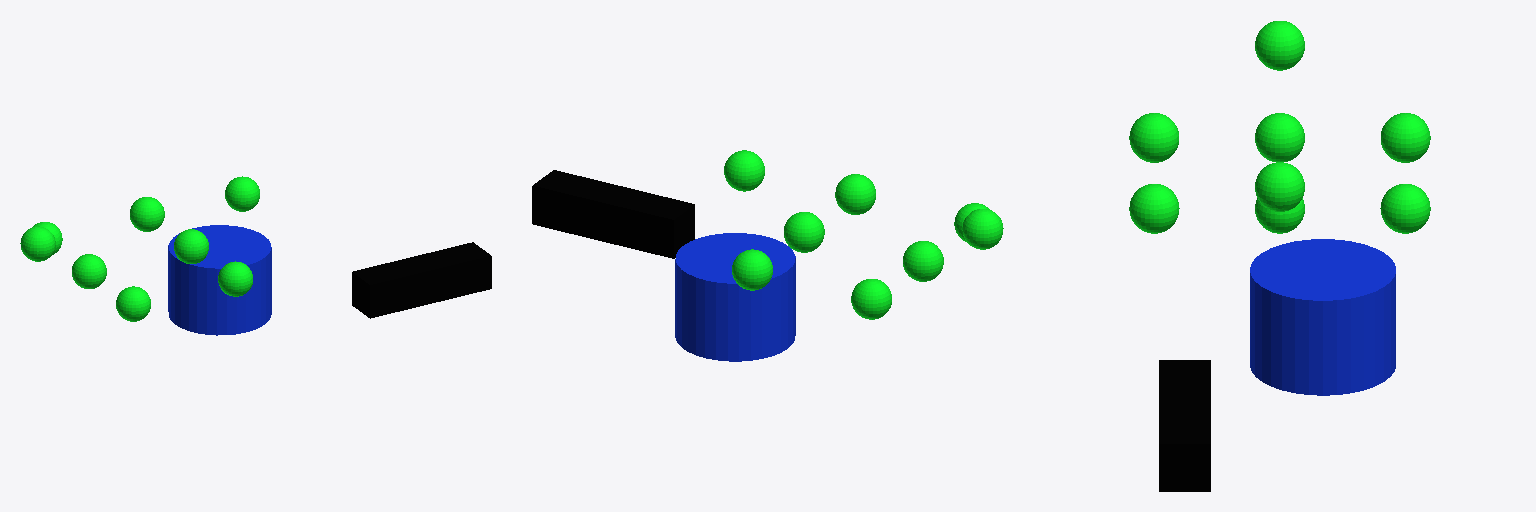
The robot description file, URDF, robot "myagv_assembly":
<?xml version="1.0"?>
<robot name="myagv_assembly">
  <!--
    Robot description for the new full assembly STL.

    Frame convention:
      base_footprint: planar navigation frame on the floor projection.
      base_link:      physical robot body frame used for sensors and mocap.
      odom:           NOT defined here. It is a dynamic runtime/world frame.

    The new assembly mesh is a visual reference only. Sensor and mocap
    transforms below should be updated from physical measurements.

    Current CAD measurements, from the Fusion/STL coordinate frame in mm:
      base_link:   [-299.832,  24.717,   33.859]
      camera_link: [-254.500, 142.000, -160.000]
      laser_frame: [-320.430, 118.347,  -40.346]

    Fusion/STL axes are mapped into ROS as:
      ROS X forward = -Fusion Z
      ROS Y left    = -Fusion X
      ROS Z up      =  Fusion Y
  -->

  <material name="assembly_grey">
    <color rgba="0.72 0.72 0.72 1.0"/>
  </material>
  <material name="camera_black">
    <color rgba="0.02 0.02 0.02 1.0"/>
  </material>
  <material name="lidar_blue">
    <color rgba="0.1 0.25 0.9 1.0"/>
  </material>
  <material name="mocap_led_green">
    <color rgba="0.1 1.0 0.2 1.0"/>
  </material>

  <link name="base_footprint"/>

  <joint name="base_footprint_to_base_link" type="fixed">
    <parent link="base_footprint"/>
    <child link="base_link"/>
    <origin xyz="0 0 0" rpy="0 0 0"/>
  </joint>
  <link name="base_link"/>

  <joint name="base_to_assembly_mesh" type="fixed">
    <parent link="base_link"/>
    <child link="assembly_mesh_link"/>
    <!--
      The STL was exported in the Fusion coordinate frame. This origin shifts
      and rotates the measured CAD base_link point onto the URDF base_link
      frame.
      Mesh units are millimeters, hence the 0.001 scale below.
    -->
    <origin xyz="0.033859 -0.299832 -0.024717" rpy="1.57079632679 0 -1.57079632679"/>
  </joint>
  <link name="assembly_mesh_link">
    <visual>
      <geometry>
        <mesh filename="package://robot_description/meshes/stl/assembly.stl" scale="0.001 0.001 0.001"/>
      </geometry>
      <material name="assembly_grey"/>
    </visual>
  </link>

  <!--
    Lidar frame.
    Translation is from the measured Fusion point relative to base_link,
    mapped into ROS axes:
      [-320.430, 118.347, -40.346] - [-299.832, 24.717, 33.859] mm.
    TODO: replace rpy with the measured sensor orientation if the lidar frame
    axes are not aligned with base_link. The robot bag has used `laser_frame`.
  -->
  <joint name="base_to_laser_frame" type="fixed">
    <parent link="base_link"/>
    <child link="laser_frame"/>
    <origin xyz="0.074205 0.020598 0.093630" rpy="0 0 0"/>
  </joint>
  <link name="laser_frame">
    <visual>
      <origin xyz="0 0 0.025" rpy="0 0 0"/>
      <geometry>
        <cylinder radius="0.035" length="0.05"/>
      </geometry>
      <material name="lidar_blue"/>
    </visual>
  </link>

  <!-- Backwards-compatible alias for older configs that used lidar_link. -->
  <joint name="laser_frame_to_lidar_link" type="fixed">
    <parent link="laser_frame"/>
    <child link="lidar_link"/>
    <origin xyz="0 0 0" rpy="0 0 0"/>
  </joint>
  <link name="lidar_link"/>

  <!--
    Camera frames.
    Translation is from the measured Fusion point relative to base_link,
    mapped into ROS axes:
      [-254.500, 142.000, -160.000] - [-299.832, 24.717, 33.859] mm.
    TODO: replace base_to_camera_link rpy with the measured camera body
    orientation if the camera frame axes are not aligned with base_link. The
    optical-frame rotations follow ROS camera convention.
  -->
  <joint name="base_to_camera_link" type="fixed">
    <parent link="base_link"/>
    <child link="camera_link"/>
    <origin xyz="0.193859 -0.045332 0.117283" rpy="0 0 0"/>
  </joint>
  <link name="camera_link">
    <visual>
      <origin xyz="0 0 0" rpy="0 0 0"/>
      <geometry>
        <box size="0.095 0.025 0.025"/>
      </geometry>
      <material name="camera_black"/>
    </visual>
  </link>

  <joint name="camera_link_to_color_frame" type="fixed">
    <parent link="camera_link"/>
    <child link="camera_color_frame"/>
    <origin xyz="0 0 0" rpy="0 0 0"/>
  </joint>
  <link name="camera_color_frame"/>

  <joint name="camera_color_frame_to_optical" type="fixed">
    <parent link="camera_color_frame"/>
    <child link="camera_color_optical_frame"/>
    <origin xyz="0 0 0" rpy="-1.57079632679 0 -1.57079632679"/>
  </joint>
  <link name="camera_color_optical_frame"/>

  <joint name="camera_link_to_depth_frame" type="fixed">
    <parent link="camera_link"/>
    <child link="camera_depth_frame"/>
    <origin xyz="0 0 0" rpy="0 0 0"/>
  </joint>
  <link name="camera_depth_frame"/>

  <joint name="camera_depth_frame_to_optical" type="fixed">
    <parent link="camera_depth_frame"/>
    <child link="camera_depth_optical_frame"/>
    <origin xyz="0 0 0" rpy="-1.57079632679 0 -1.57079632679"/>
  </joint>
  <link name="camera_depth_optical_frame"/>

  <!-- Compatibility alias for older RViz configs. -->
  <joint name="camera_color_optical_to_camera_optical_frame" type="fixed">
    <parent link="camera_color_optical_frame"/>
    <child link="camera_optical_frame"/>
    <origin xyz="0 0 0" rpy="0 0 0"/>
  </joint>
  <link name="camera_optical_frame"/>

  <!--
    Mocap LED frames.
    TODO: replace each xyz with the measured LED center in base_link, meters.
    Keep the marker IDs matched to PhaseSpace IDs. These placeholders are
    intentionally near the top of the robot so the frames are visible in RViz.
  -->
  <joint name="base_to_mocap_led_0" type="fixed">
    <parent link="base_link"/>
    <child link="mocap_led_0"/>
    <origin xyz="-0.040 -0.060 0.160" rpy="0 0 0"/>
  </joint>
  <link name="mocap_led_0">
    <visual>
      <geometry>
        <sphere radius="0.012"/>
      </geometry>
      <material name="mocap_led_green"/>
    </visual>
  </link>

  <joint name="base_to_mocap_led_1" type="fixed">
    <parent link="base_link"/>
    <child link="mocap_led_1"/>
    <origin xyz="0.040 -0.060 0.160" rpy="0 0 0"/>
  </joint>
  <link name="mocap_led_1">
    <visual>
      <geometry>
        <sphere radius="0.012"/>
      </geometry>
      <material name="mocap_led_green"/>
    </visual>
  </link>

  <joint name="base_to_mocap_led_2" type="fixed">
    <parent link="base_link"/>
    <child link="mocap_led_2"/>
    <origin xyz="-0.040 0.000 0.160" rpy="0 0 0"/>
  </joint>
  <link name="mocap_led_2">
    <visual>
      <geometry>
        <sphere radius="0.012"/>
      </geometry>
      <material name="mocap_led_green"/>
    </visual>
  </link>

  <joint name="base_to_mocap_led_3" type="fixed">
    <parent link="base_link"/>
    <child link="mocap_led_3"/>
    <origin xyz="0.040 0.000 0.160" rpy="0 0 0"/>
  </joint>
  <link name="mocap_led_3">
    <visual>
      <geometry>
        <sphere radius="0.012"/>
      </geometry>
      <material name="mocap_led_green"/>
    </visual>
  </link>

  <joint name="base_to_mocap_led_4" type="fixed">
    <parent link="base_link"/>
    <child link="mocap_led_4"/>
    <origin xyz="-0.040 0.060 0.160" rpy="0 0 0"/>
  </joint>
  <link name="mocap_led_4">
    <visual>
      <geometry>
        <sphere radius="0.012"/>
      </geometry>
      <material name="mocap_led_green"/>
    </visual>
  </link>

  <joint name="base_to_mocap_led_5" type="fixed">
    <parent link="base_link"/>
    <child link="mocap_led_5"/>
    <origin xyz="0.040 0.060 0.160" rpy="0 0 0"/>
  </joint>
  <link name="mocap_led_5">
    <visual>
      <geometry>
        <sphere radius="0.012"/>
      </geometry>
      <material name="mocap_led_green"/>
    </visual>
  </link>

  <joint name="base_to_mocap_led_6" type="fixed">
    <parent link="base_link"/>
    <child link="mocap_led_6"/>
    <origin xyz="-0.080 0.000 0.190" rpy="0 0 0"/>
  </joint>
  <link name="mocap_led_6">
    <visual>
      <geometry>
        <sphere radius="0.012"/>
      </geometry>
      <material name="mocap_led_green"/>
    </visual>
  </link>

  <joint name="base_to_mocap_led_7" type="fixed">
    <parent link="base_link"/>
    <child link="mocap_led_7"/>
    <origin xyz="0.080 0.000 0.190" rpy="0 0 0"/>
  </joint>
  <link name="mocap_led_7">
    <visual>
      <geometry>
        <sphere radius="0.012"/>
      </geometry>
      <material name="mocap_led_green"/>
    </visual>
  </link>
</robot>

--- Render facts (derived) ---
The picture shows the robot from 3 angles, left to right: view 1: azimuth 30°, elevation 25°; view 2: azimuth 150°, elevation 25°; view 3: azimuth 270°, elevation 25°; orthographic projection.
Robot: myagv_assembly — 19 links, 18 joints (18 fixed); root link base_footprint; default pose: all joints at 0.
Links seen in each view (by area): view 1: laser_frame, camera_link, mocap_led_0, mocap_led_7, mocap_led_6, mocap_led_1, mocap_led_2, mocap_led_3, mocap_led_5; view 2: laser_frame, camera_link, mocap_led_5, mocap_led_2, mocap_led_7, mocap_led_1, mocap_led_3, mocap_led_4, mocap_led_6; view 3: laser_frame, camera_link, mocap_led_7, mocap_led_1, mocap_led_5, mocap_led_0, mocap_led_4, mocap_led_2, mocap_led_6, mocap_led_3.
Link boxes in pixels (left/top/right/bottom): laser_frame: left=168, top=225, right=271, bottom=335; camera_link: left=352, top=242, right=491, bottom=318; mocap_led_0: left=116, top=286, right=150, bottom=321; mocap_led_7: left=225, top=176, right=259, bottom=211; mocap_led_6: left=20, top=226, right=55, bottom=261; mocap_led_1: left=218, top=261, right=252, bottom=296; mocap_led_2: left=72, top=254, right=106, bottom=288; mocap_led_3: left=174, top=229, right=208, bottom=263; mocap_led_5: left=130, top=197, right=164, bottom=231; laser_frame: left=675, top=233, right=795, bottom=361; camera_link: left=532, top=170, right=694, bottom=258; mocap_led_5: left=732, top=249, right=772, bottom=290; mocap_led_2: left=903, top=241, right=943, bottom=281; mocap_led_7: left=724, top=150, right=764, bottom=191; mocap_led_1: left=835, top=174, right=875, bottom=214; mocap_led_3: left=784, top=212, right=824, bottom=252; mocap_led_4: left=851, top=279, right=891, bottom=319; mocap_led_6: left=962, top=209, right=1003, bottom=249; laser_frame: left=1250, top=239, right=1395, bottom=395; camera_link: left=1159, top=360, right=1210, bottom=491; mocap_led_7: left=1255, top=162, right=1304, bottom=211; mocap_led_1: left=1129, top=184, right=1179, bottom=233; mocap_led_5: left=1380, top=184, right=1430, bottom=233; mocap_led_0: left=1129, top=113, right=1178, bottom=162; mocap_led_4: left=1381, top=113, right=1430, bottom=162; mocap_led_2: left=1255, top=113, right=1304, bottom=161; mocap_led_6: left=1255, top=21, right=1304, bottom=70; mocap_led_3: left=1255, top=198, right=1304, bottom=233.
Bounding box of the posed robot: 0.3334 × 0.144 × 0.1084 m (x, y, z).
0 mesh visuals loaded from 1 distinct referenced files (none loaded); not drawn: 1 (reference not matched to a file when rendering).
